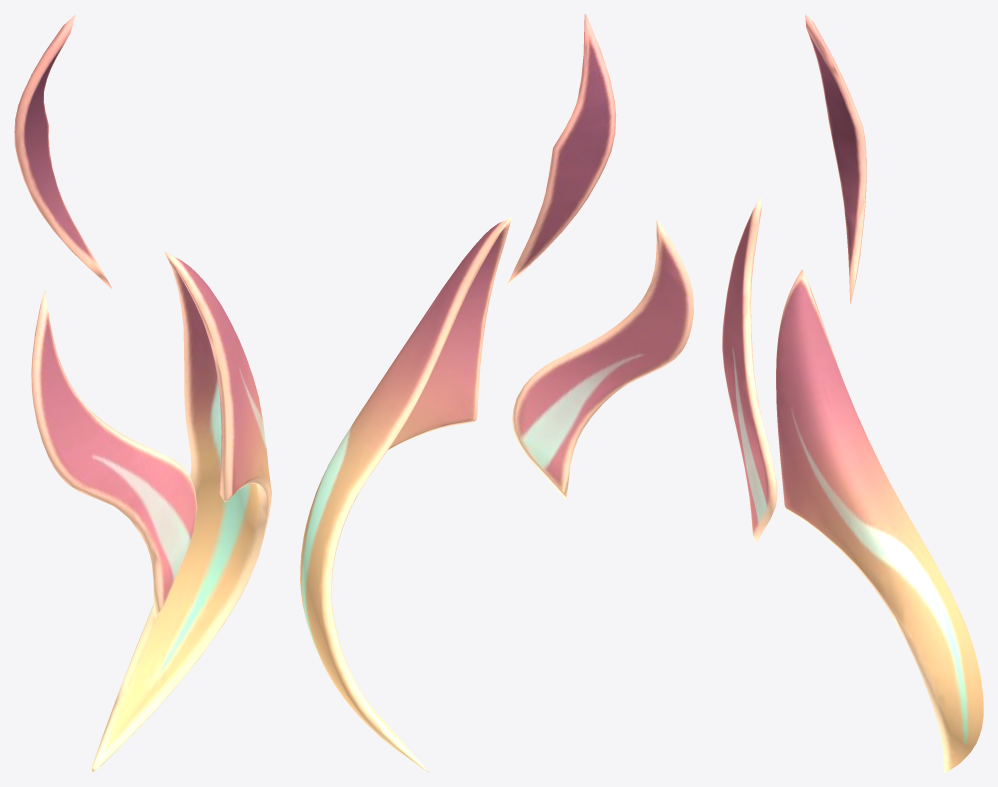
Rendered from flame_vegetation_01_b.glb.
3 views of the same model, side by side, from view 1: azimuth 30°, elevation 25°; view 2: azimuth 150°, elevation 25°; view 3: azimuth 270°, elevation 25° (orthographic). The views are drawn at different scales.
Visible parts, largest first — view 1: SM_KC_FLAME_VEGETATION_01_B; view 2: SM_KC_FLAME_VEGETATION_01_B; view 3: SM_KC_FLAME_VEGETATION_01_B.
Part boxes in pixels (x1,y1,x2,y2): SM_KC_FLAME_VEGETATION_01_B: [14, 14, 271, 772]; SM_KC_FLAME_VEGETATION_01_B: [300, 14, 693, 772]; SM_KC_FLAME_VEGETATION_01_B: [722, 14, 983, 772].
Size of the model in its own units: 1.06 by 2.5 by 0.8247.
Materials: 1 (1 with a texture image).
